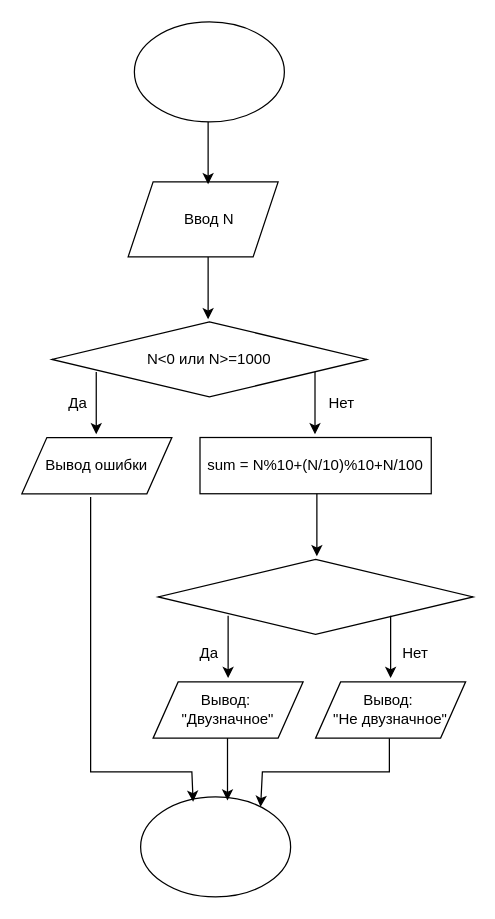
Image size: 495x919. Some labels were removed from this diagram. The box of each missing label's shape, as (x1, y1, x2, y2) in pixels:
10 <= sum <= 99: (157, 558, 473, 634)
Конец: (139, 796, 291, 897)
Начало: (133, 21, 284, 122)
